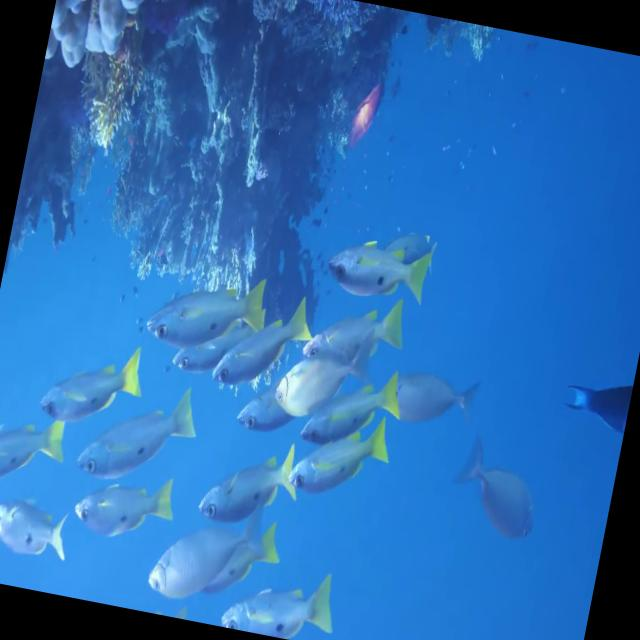fish: (72, 369, 206, 502), (441, 427, 550, 555), (144, 503, 266, 615), (143, 260, 274, 360), (210, 279, 318, 400), (63, 454, 189, 557), (296, 352, 410, 460), (298, 280, 412, 386), (286, 408, 399, 510), (38, 334, 148, 438), (214, 557, 346, 640), (200, 434, 305, 530), (271, 342, 374, 438), (326, 227, 436, 314), (190, 516, 286, 611), (393, 359, 488, 446), (0, 399, 72, 505), (554, 362, 636, 454), (0, 487, 78, 573), (229, 388, 297, 454), (167, 336, 230, 391)
